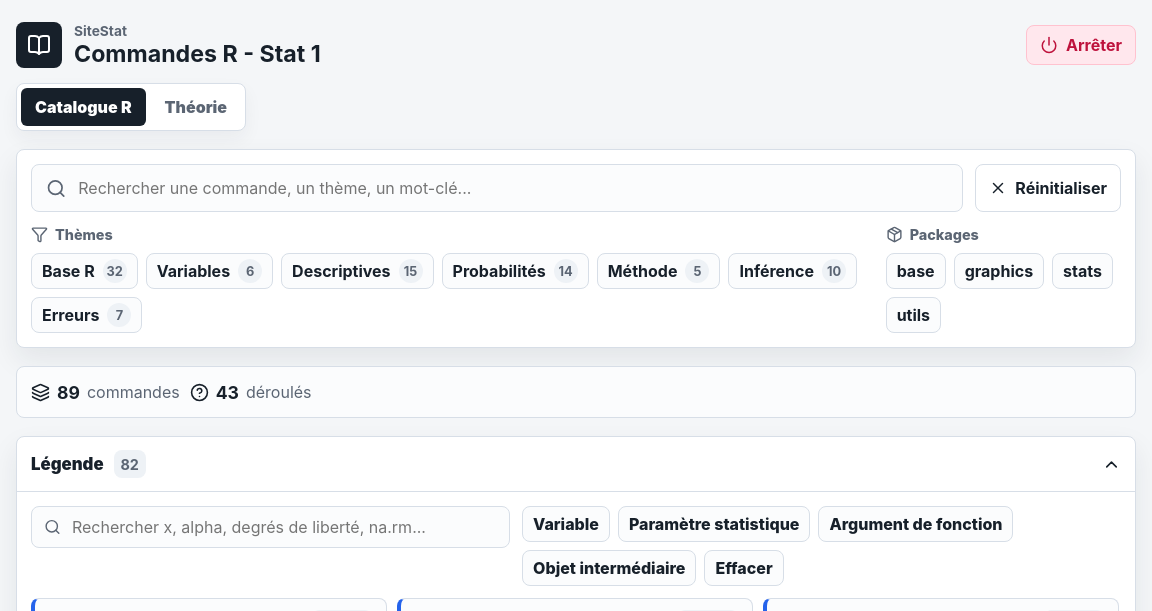
it: App › affiche les variables utilisées dans une carte
Type "t.test(x, mu" into the search field labelled "Rechercher une commande, un thème, un mot-clé..." at (512, 188), box [76, 177, 948, 199]
(page scrolled)
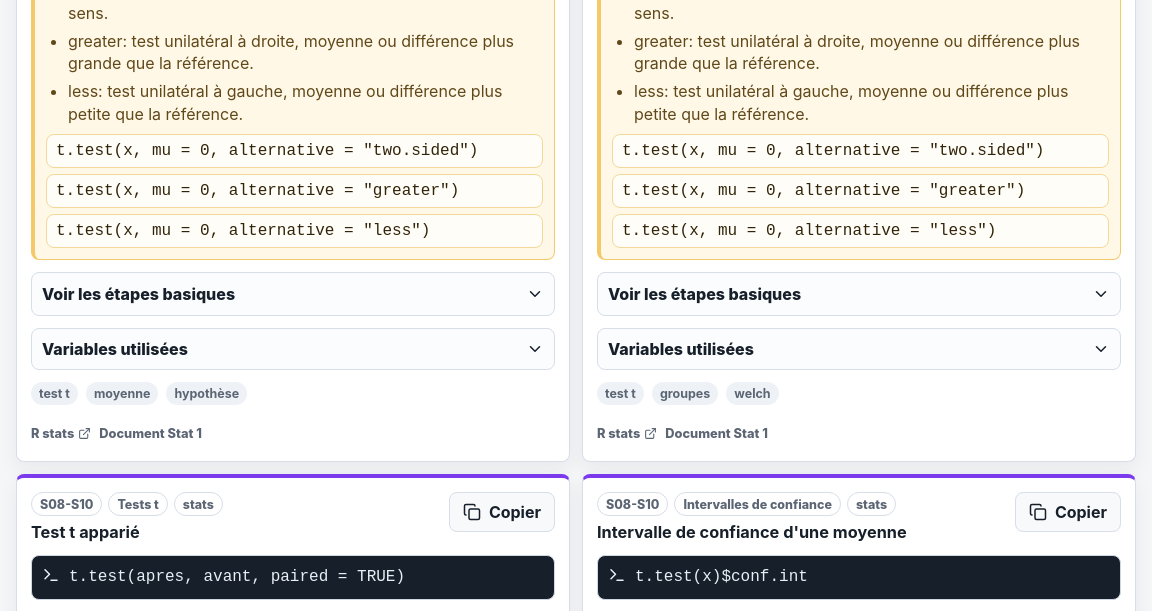
Click the 1st heading "Variables utilisées" at (115, 349), box [42, 340, 544, 360]
(page scrolled)
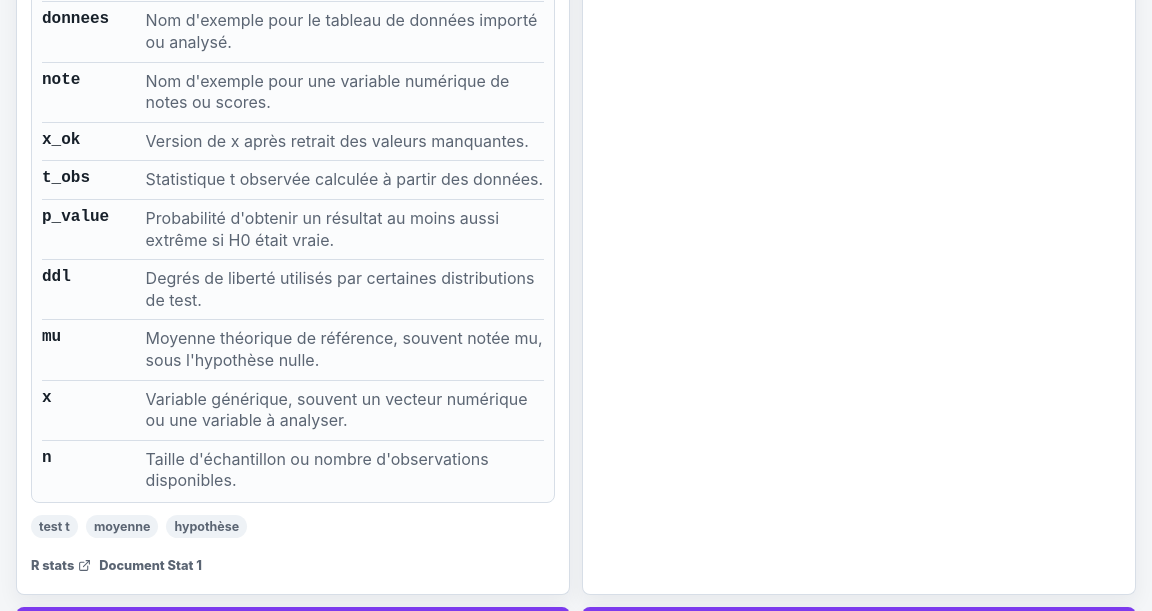
Result: the text "mu" is shown at [42, 328, 61, 346]
Result: the text "Moyenne théorique de référence" is shown at [146, 328, 542, 370]
